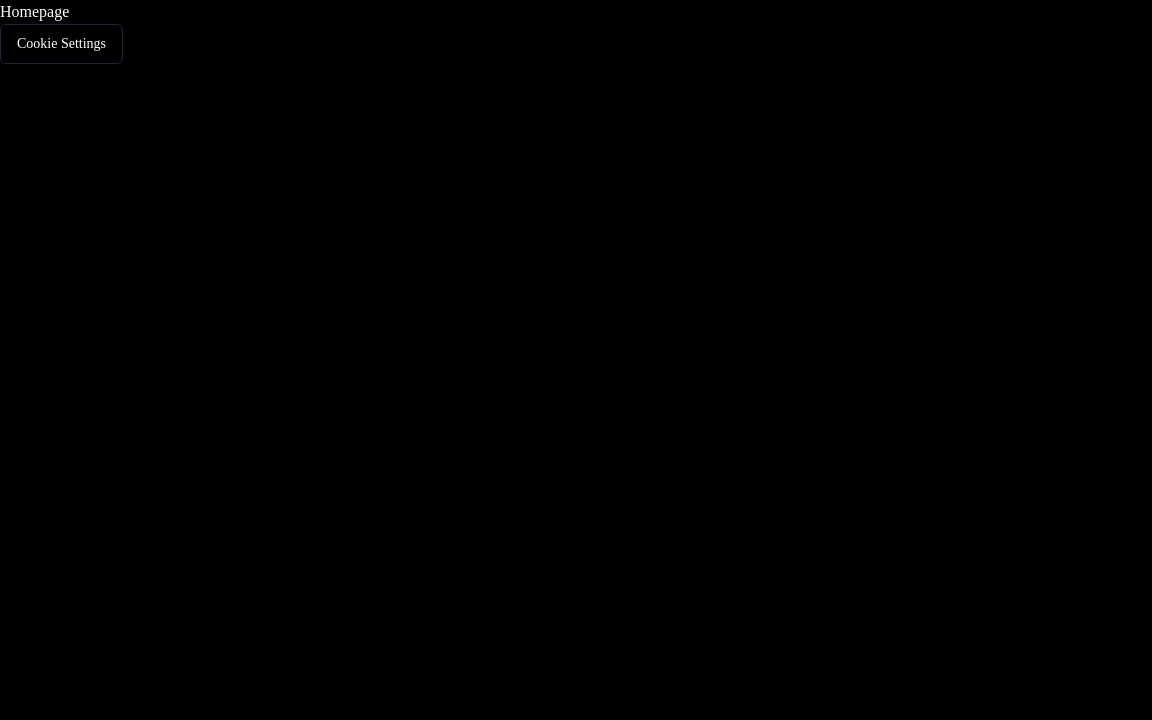
Scenario: CookieConsentProvider › keeps the homepage hero unobstructed while retaining explicit cookie settings
Click the button "Cookie Settings" at (62, 44), box [0,24,123,64]
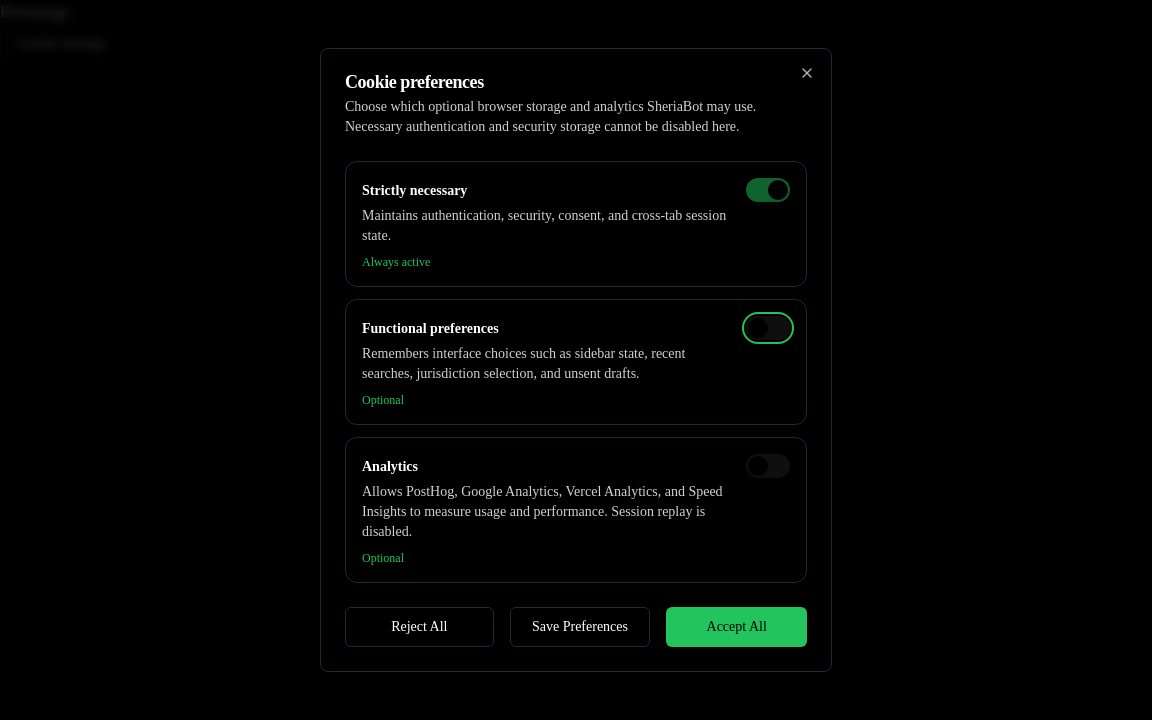
expect the dialog "Cookie preferences" is shown: met, box [320,48,832,672]
